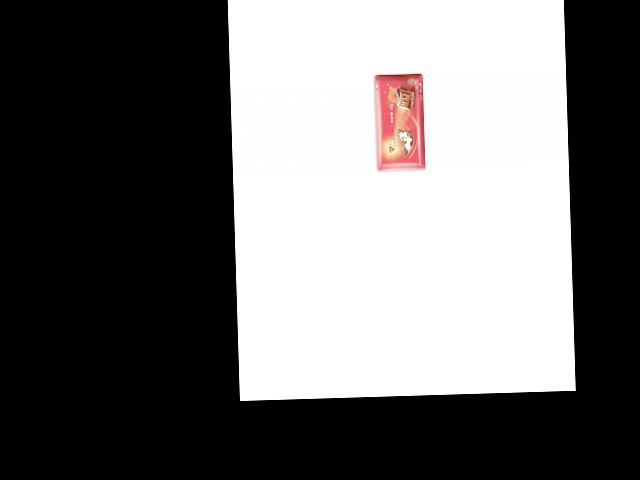chocolate: (373, 72, 429, 176)
